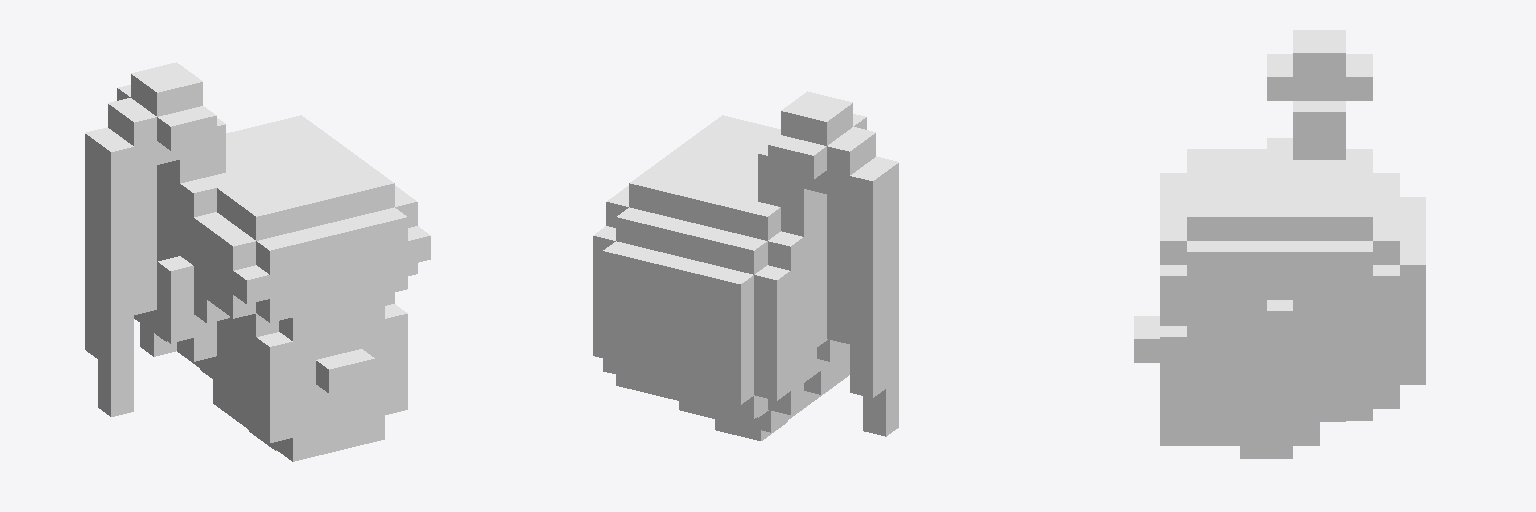
File: female-30.obj
3 renders of one model, left to right at view 1: azimuth 30°, elevation 25°; view 2: azimuth 150°, elevation 25°; view 3: azimuth 270°, elevation 25°, orthographic.
Parts seen in each view (by area): view 1: object 1; view 2: object 1; view 3: object 1.
Boxes of the visible parts, x1,y1,x2,y2 form: object 1: [85, 62, 430, 461]; object 1: [593, 91, 898, 440]; object 1: [1134, 30, 1425, 458].
Bounding box in the file's own units: 1.2 × 1.5 × 1.1.